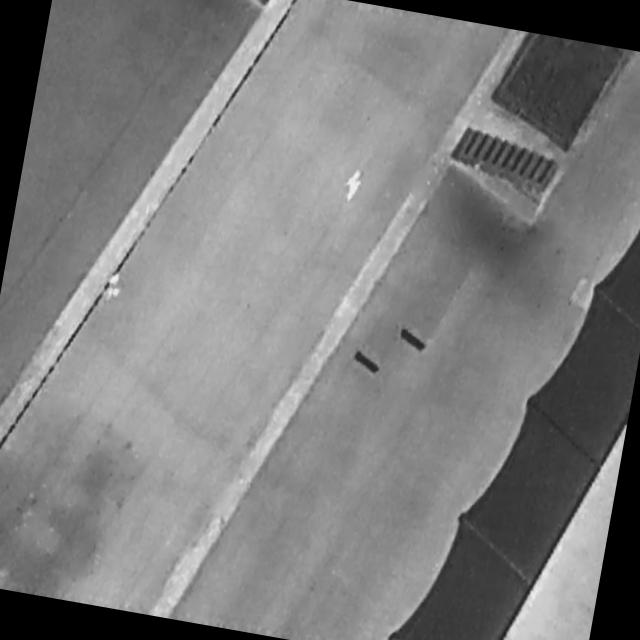person: (340, 164, 367, 207), (104, 269, 124, 306)
